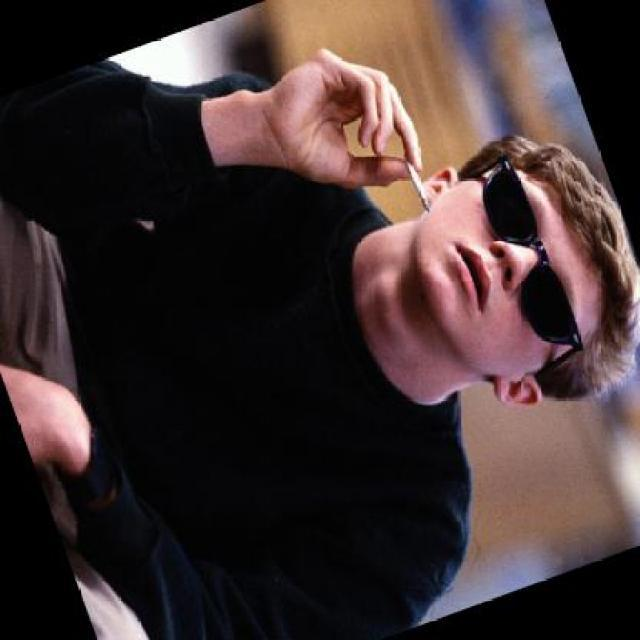smoke: (398, 147, 433, 218)
